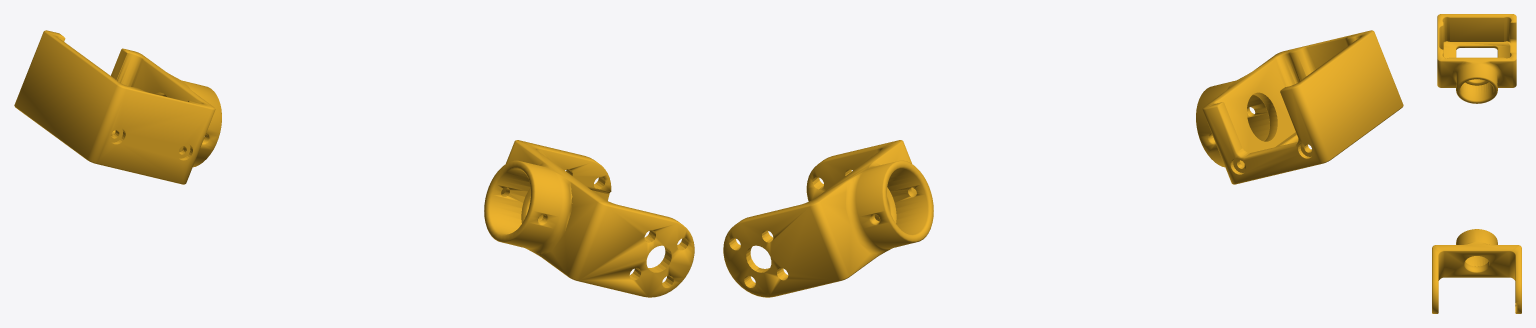
The model's file is right_arm_link2_arm.dae.
The picture shows the model from 3 angles, left to right: view 1: azimuth 30°, elevation 25°; view 2: azimuth 150°, elevation 25°; view 3: azimuth 270°, elevation 25°; orthographic projection. The views are drawn at different scales.
Parts seen in each view (by area): view 1: node; view 2: node; view 3: node.
Part boxes in pixels (x1,y1,x2,y2): node: (14,30,694,297); node: (723,30,1403,297); node: (1432,14,1521,313).
Bounding box in the file's own units: 0.1657 × 0.043 × 0.0888.
